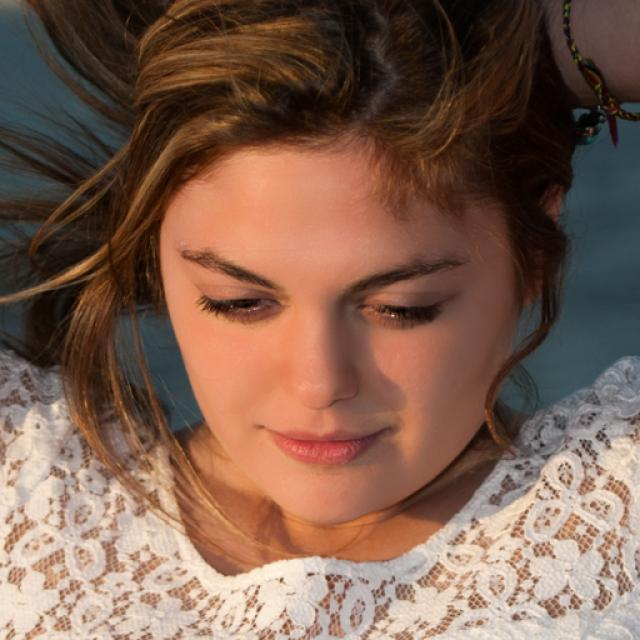happy: (160, 130, 515, 524)
